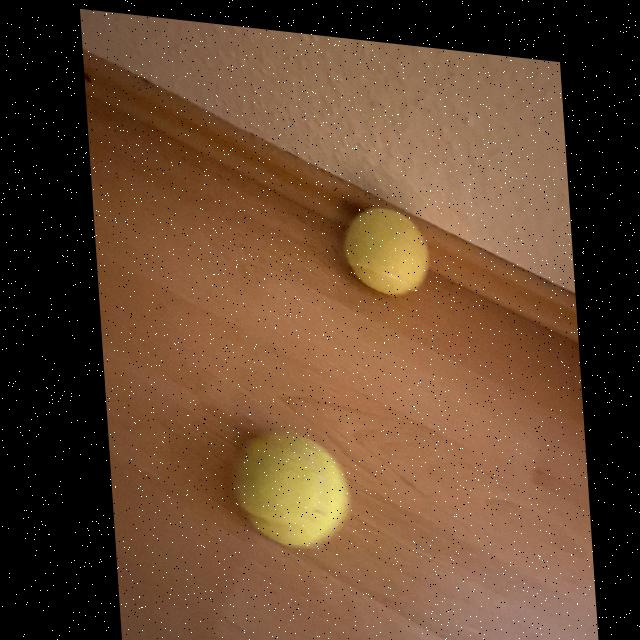Tennisball: (235, 434, 350, 548), (344, 208, 429, 296)
